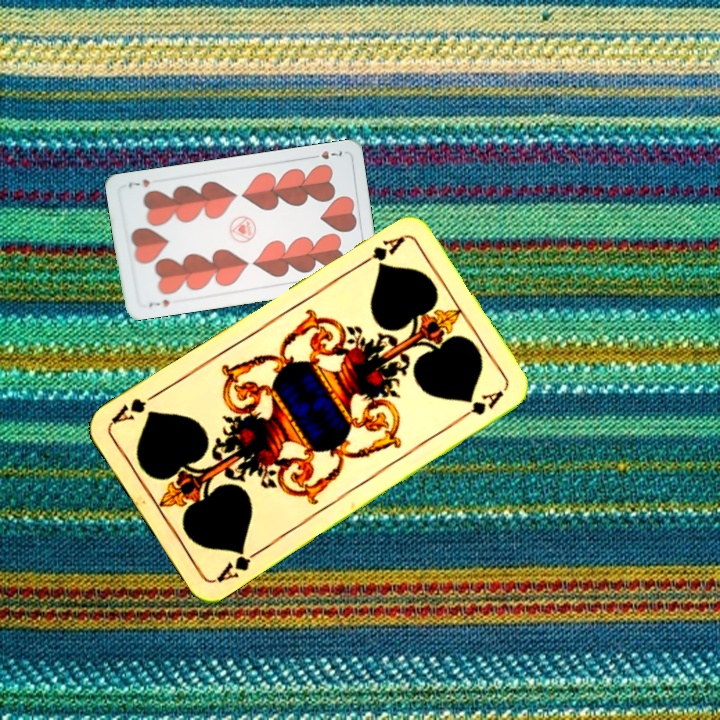GA: (212, 544, 264, 585), (354, 232, 407, 270)
H7: (306, 146, 345, 162), (145, 295, 172, 310)
